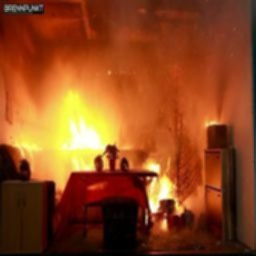fire: (14, 85, 125, 169)
